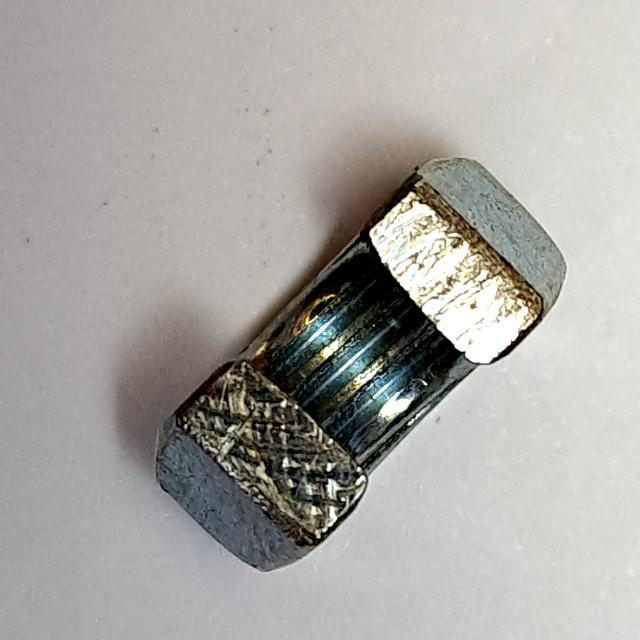Side-Fracture: (139, 145, 577, 590)
